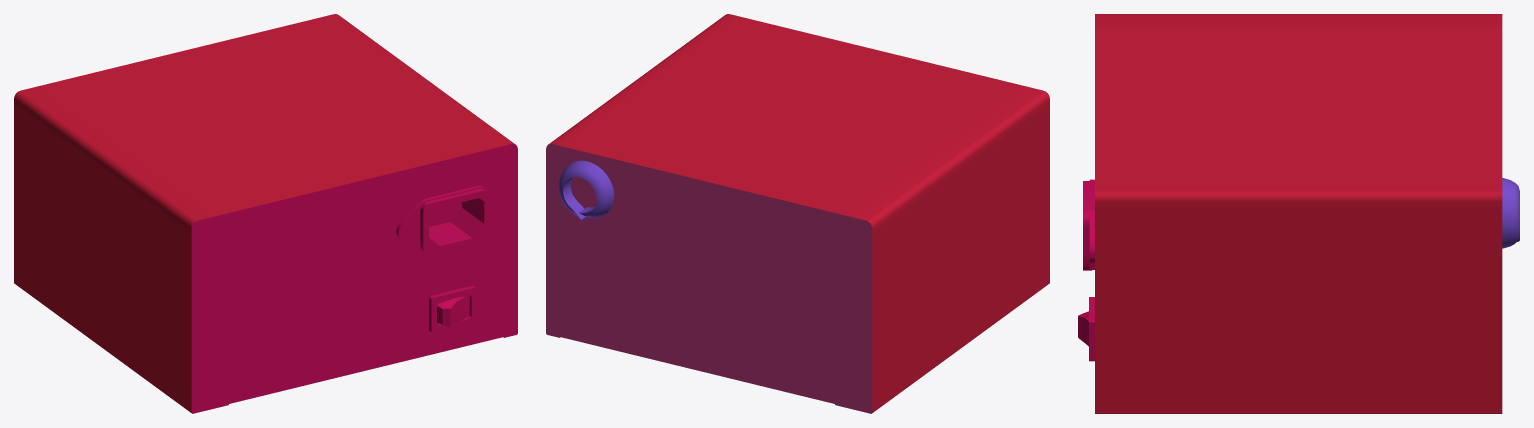
File: PSU.fbx
The picture shows the model from 3 angles, left to right: view 1: azimuth 30°, elevation 25°; view 2: azimuth 150°, elevation 25°; view 3: azimuth 270°, elevation 25°; orthographic projection. The views are drawn at different scales.
Visible parts, largest first — view 1: PSU; view 2: PSU; view 3: PSU.
Boxes of the visible parts, x1,y1,x2,y2 form: PSU: [14, 14, 517, 413]; PSU: [546, 14, 1049, 413]; PSU: [1078, 14, 1519, 413].
Bounding box in the file's own units: 400 × 225 × 409.
